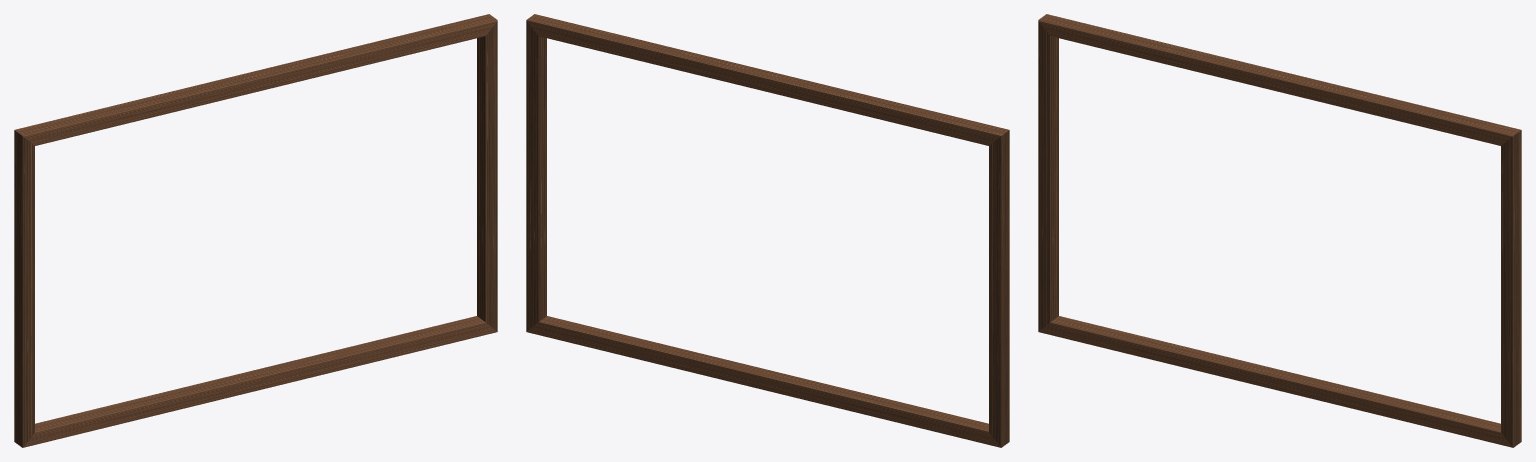
File: painting_frame_landscape_01.glb
3 views of the same model, side by side, from view 1: azimuth 30°, elevation 25°; view 2: azimuth 150°, elevation 25°; view 3: azimuth 330°, elevation 25° (orthographic).
Parts seen in each view (by area): view 1: core_painting_frame_landscape_01; view 2: core_painting_frame_landscape_01; view 3: core_painting_frame_landscape_01.
Part boxes in pixels (x1,y1,x2,y2): core_painting_frame_landscape_01: (14, 14, 497, 447); core_painting_frame_landscape_01: (526, 14, 1009, 447); core_painting_frame_landscape_01: (1038, 14, 1521, 447).
Bounding box in the file's own units: 1.9 × 1.19 × 0.06.
Materials: 1 (1 with a texture image).
